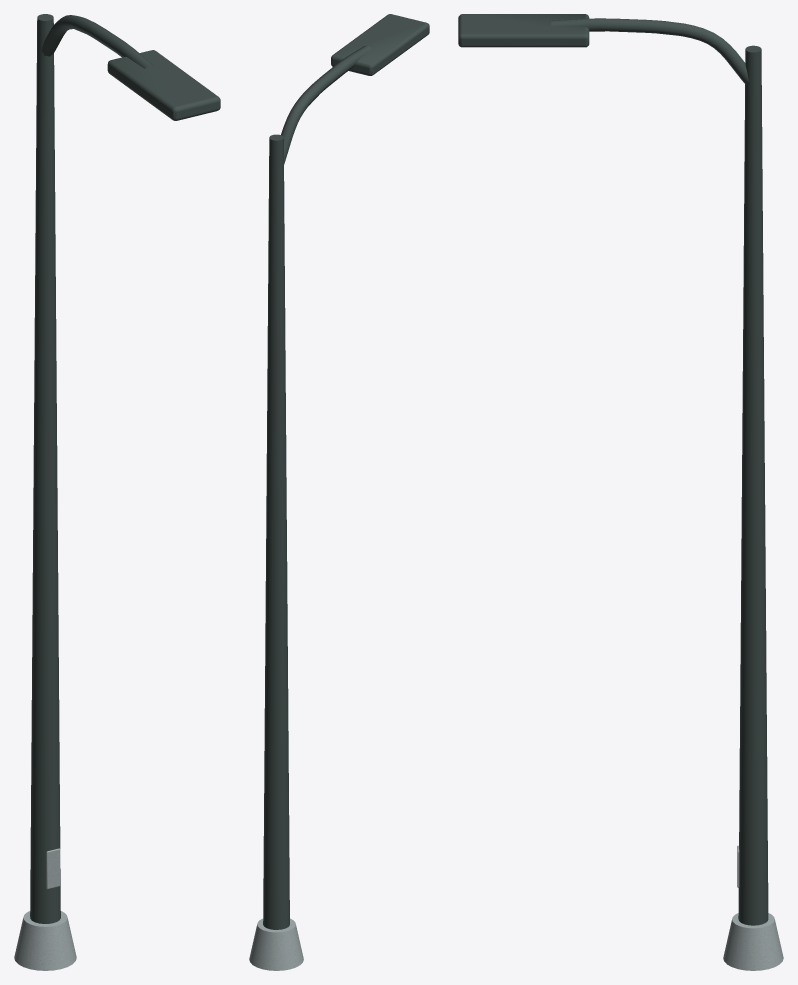
The model's file is streetlight-led.glb.
The picture shows the model from 3 angles, left to right: view 1: azimuth 30°, elevation 25°; view 2: azimuth 150°, elevation 25°; view 3: azimuth 270°, elevation 25°; orthographic projection. The views are drawn at different scales.
Visible parts, largest first — view 1: streetlight-led_powder-coated-frame, streetlight-led_galvanized-steel; view 2: streetlight-led_powder-coated-frame, streetlight-led_galvanized-steel; view 3: streetlight-led_powder-coated-frame, streetlight-led_galvanized-steel.
Boxes of the visible parts, x1,y1,x2,y2 form: streetlight-led_powder-coated-frame: [30, 14, 220, 923]; streetlight-led_galvanized-steel: [14, 848, 76, 970]; streetlight-led_powder-coated-frame: [263, 14, 429, 929]; streetlight-led_galvanized-steel: [249, 918, 303, 970]; streetlight-led_powder-coated-frame: [458, 14, 768, 925]; streetlight-led_galvanized-steel: [723, 845, 783, 970].
Size of the model in its own units: 0.4801 by 8.22 by 2.58.
Materials: 3 (1 with a texture image).
